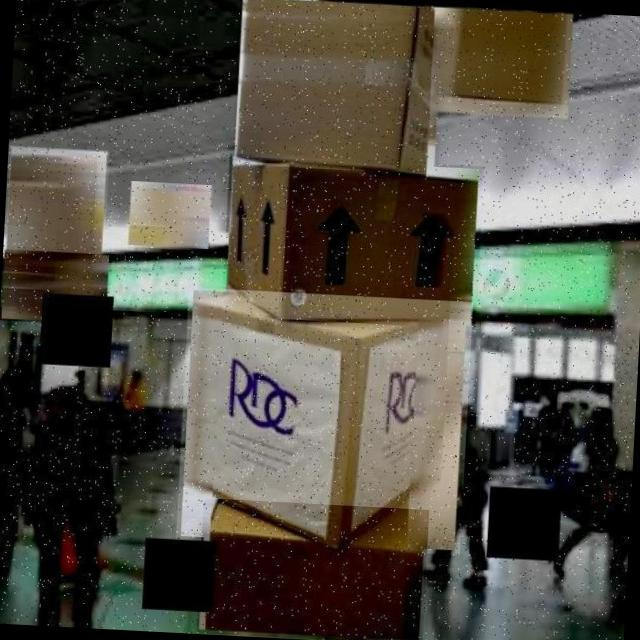box: (176, 287, 474, 556), (222, 153, 484, 330), (232, 0, 447, 175), (196, 498, 429, 640), (430, 5, 576, 121), (4, 146, 110, 262), (0, 249, 112, 326), (128, 182, 213, 254)
